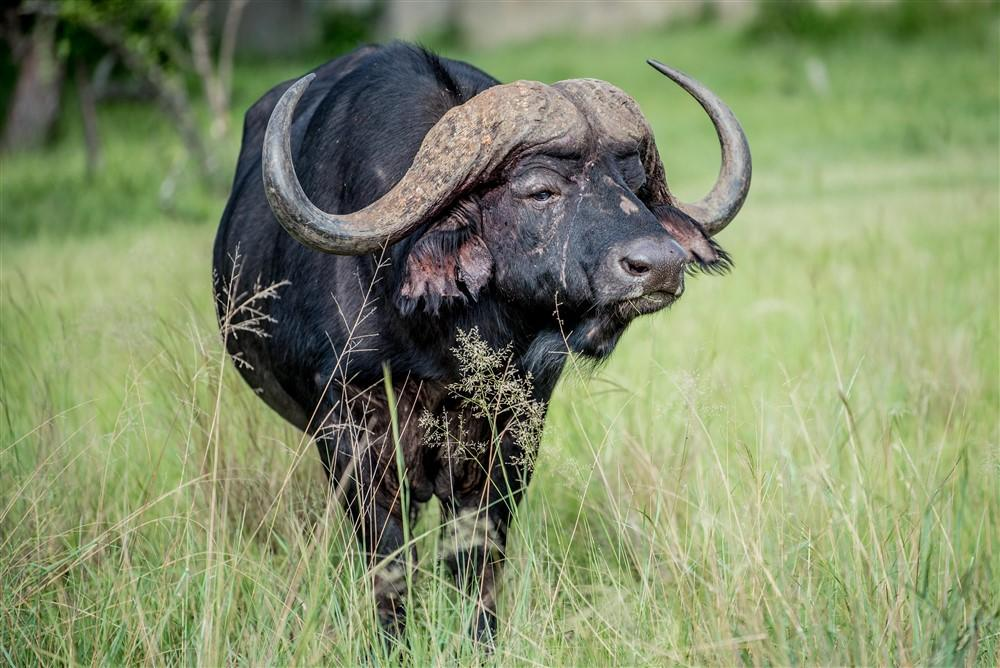Buffalo: (212, 34, 787, 630)
